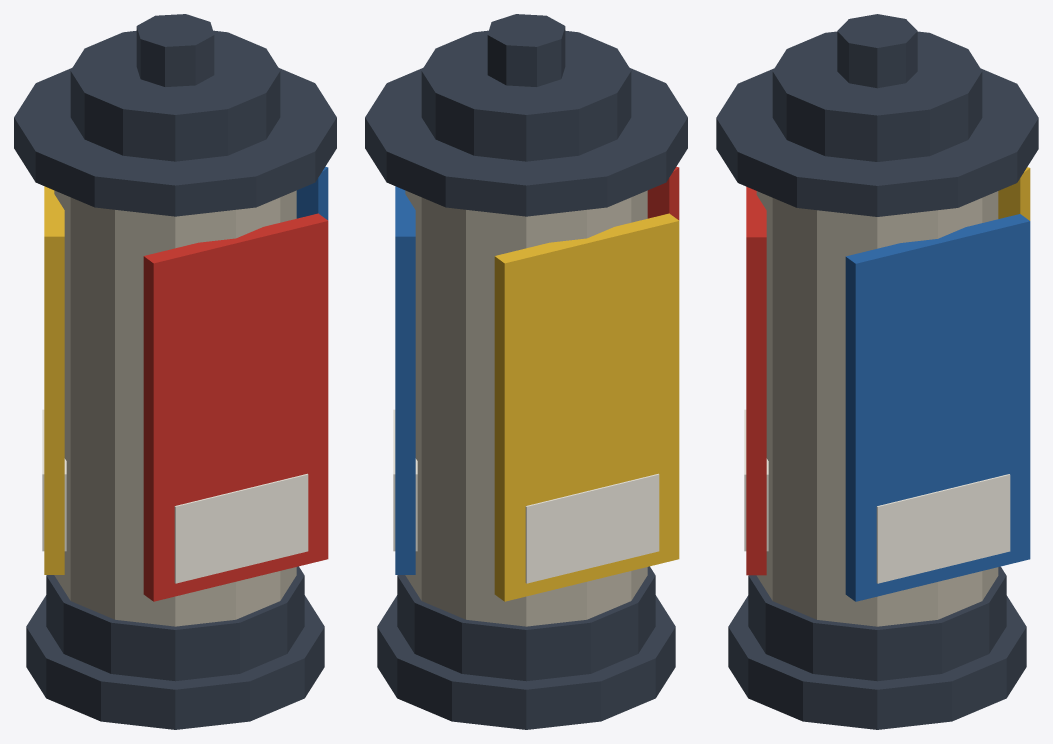
The model's file is cittaAffissioni.glb.
The picture shows the model from 3 angles, left to right: view 1: azimuth 30°, elevation 25°; view 2: azimuth 150°, elevation 25°; view 3: azimuth 270°, elevation 25°; orthographic projection.
Parts seen in each view (by area): view 1: cittaAffissioni_steelDark, cittaAffissioni_red, cittaAffissioni_cittaCrema, cittaAffissioni_white, cittaAffissioni_yellow, cittaAffissioni_blue; view 2: cittaAffissioni_steelDark, cittaAffissioni_yellow, cittaAffissioni_cittaCrema, cittaAffissioni_white, cittaAffissioni_blue, cittaAffissioni_red; view 3: cittaAffissioni_steelDark, cittaAffissioni_blue, cittaAffissioni_cittaCrema, cittaAffissioni_white, cittaAffissioni_red, cittaAffissioni_yellow.
Part boxes in pixels (x1,y1,x2,y2): cittaAffissioni_steelDark: (14, 14, 336, 729); cittaAffissioni_red: (143, 213, 328, 601); cittaAffissioni_cittaCrema: (54, 190, 296, 626); cittaAffissioni_white: (42, 409, 308, 583); cittaAffissioni_yellow: (44, 186, 64, 574); cittaAffissioni_blue: (296, 166, 328, 220); cittaAffissioni_steelDark: (365, 14, 687, 729); cittaAffissioni_yellow: (494, 213, 679, 601); cittaAffissioni_cittaCrema: (405, 190, 647, 626); cittaAffissioni_white: (393, 409, 659, 583); cittaAffissioni_blue: (395, 186, 415, 574); cittaAffissioni_red: (647, 166, 679, 220); cittaAffissioni_steelDark: (716, 14, 1038, 729); cittaAffissioni_blue: (845, 214, 1030, 601); cittaAffissioni_cittaCrema: (756, 191, 998, 626); cittaAffissioni_white: (744, 409, 1010, 583); cittaAffissioni_red: (746, 186, 766, 575); cittaAffissioni_yellow: (998, 167, 1030, 220).
Bounding box in the file's own units: 1.63 × 3.48 × 1.6.
